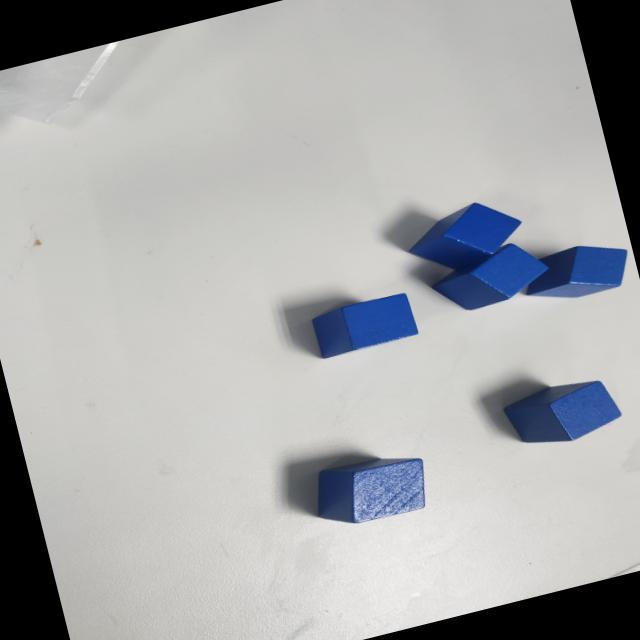blue: (306, 444, 434, 534), (401, 192, 530, 280), (425, 234, 556, 318), (499, 370, 626, 455), (514, 234, 635, 311), (311, 290, 420, 360)
